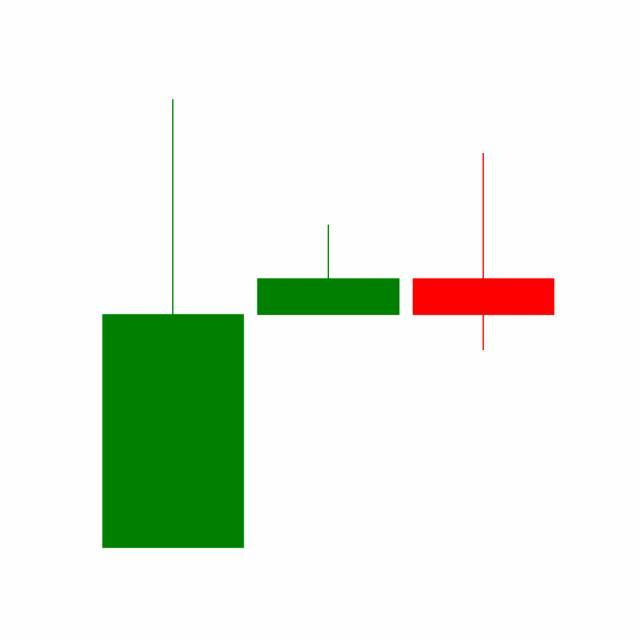Gravestone Doji: (406, 152, 562, 354)
